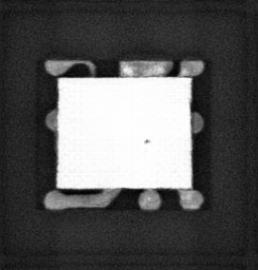DIE_INK: (142, 137, 151, 145)
